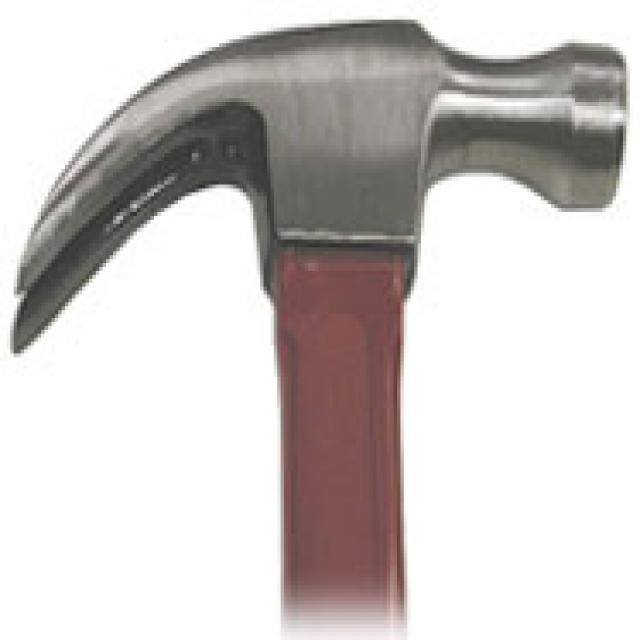hammer: (4, 16, 633, 632)
